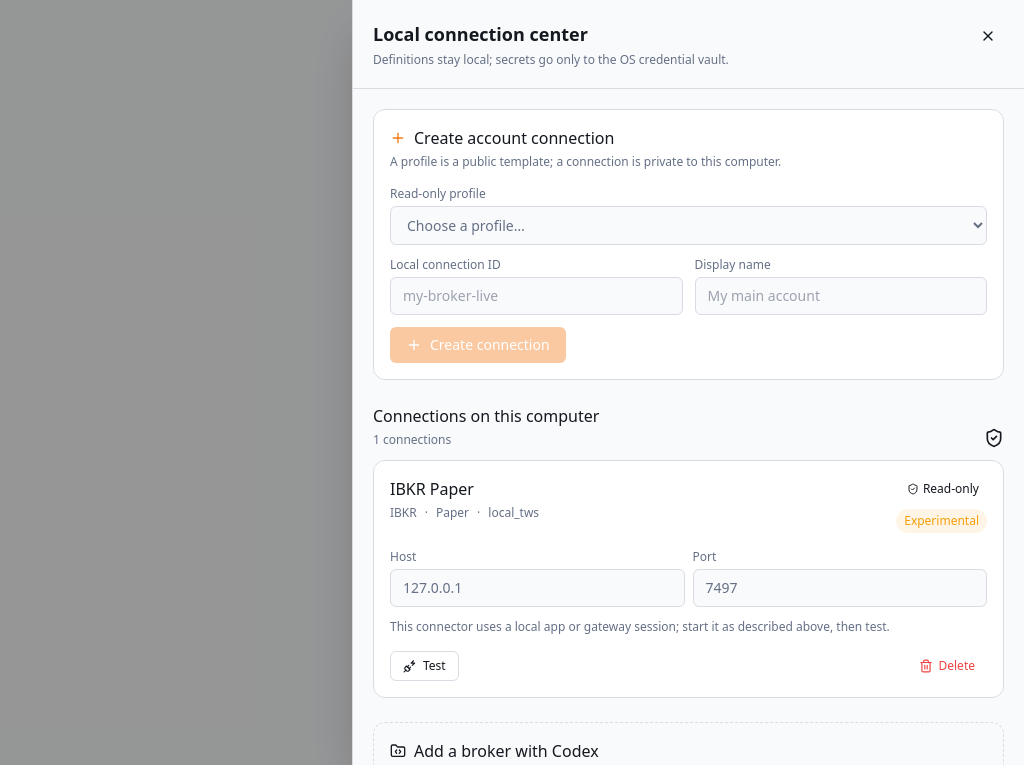
Test: ConnectionCenter IBKR address › keeps the draft and skips testing when saving fails
This screenshot has width=1024, height=765.
Type "gateway.local" into the field labelled "Host". click: (537, 588)
box: [390,569,684,607]
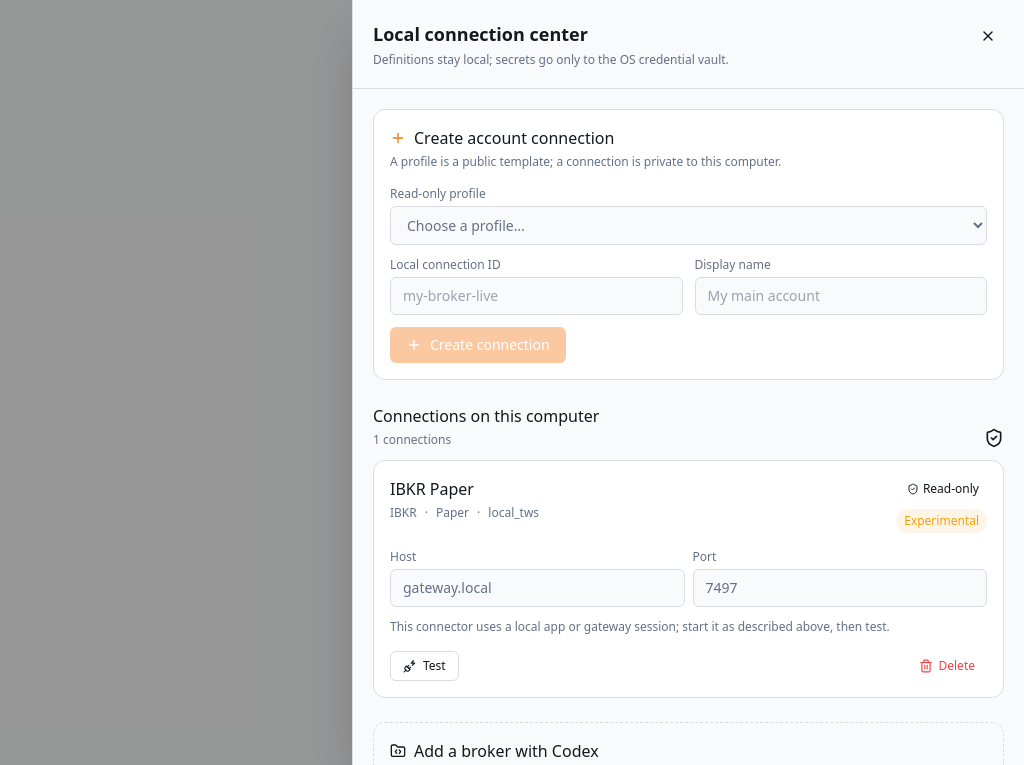
Click the button "Test". click: (424, 666)
box: [390,651,459,681]
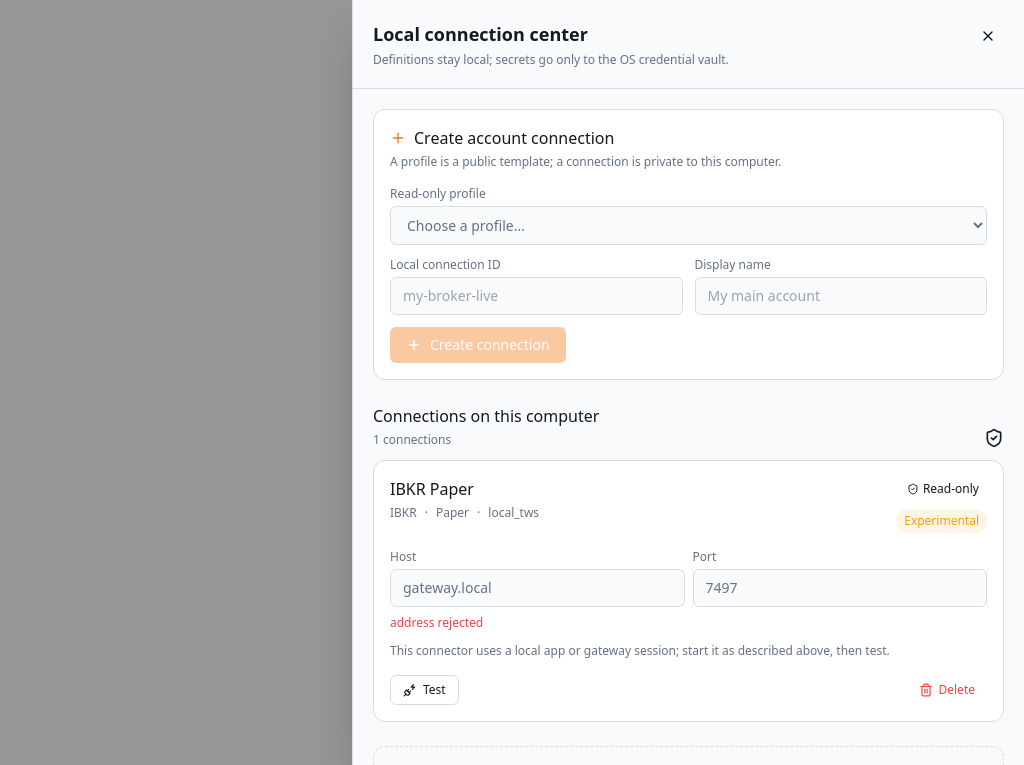
Check: the message reads "address rejected", box [390,614,483,631]
